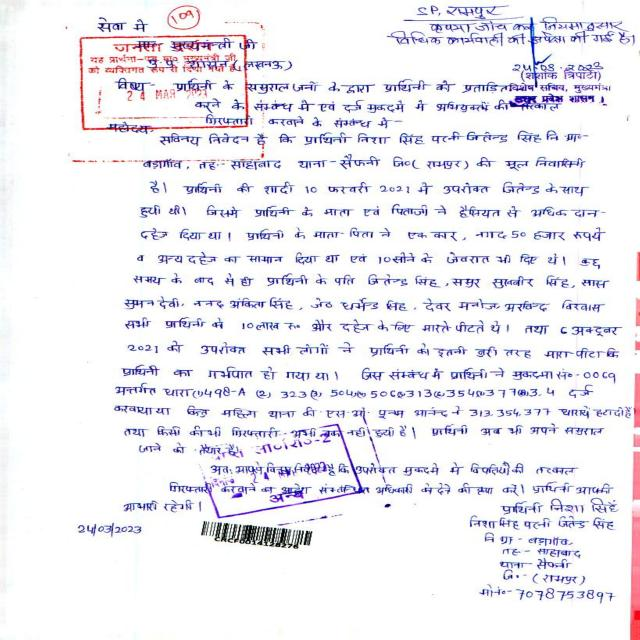antritgovtstamp: (83, 35, 245, 126)
barcode: (195, 520, 320, 550)
pinkstamp: (192, 424, 366, 519)
signnamestamp: (502, 18, 614, 106)
